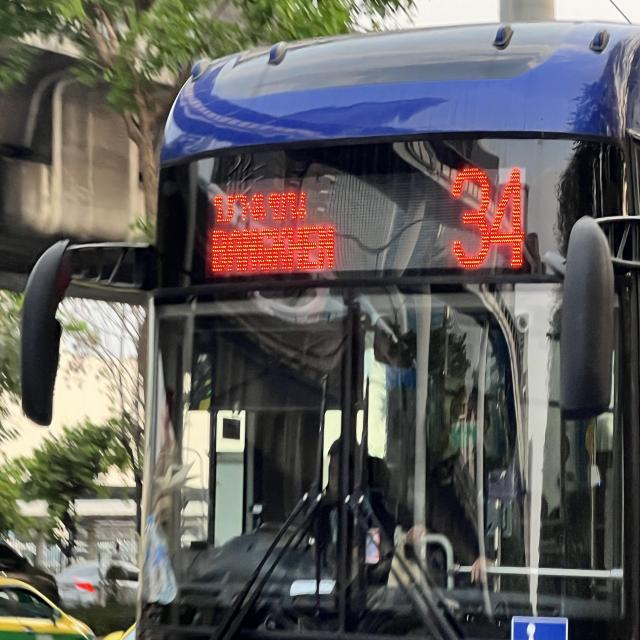Bus-Line-Number: (432, 148, 546, 280)
Destination-Sign-Normal: (203, 174, 351, 281)
TSB-Bus: (135, 13, 640, 640)
